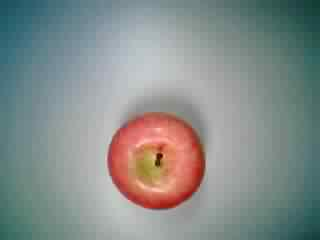apple: (105, 110, 209, 211)
